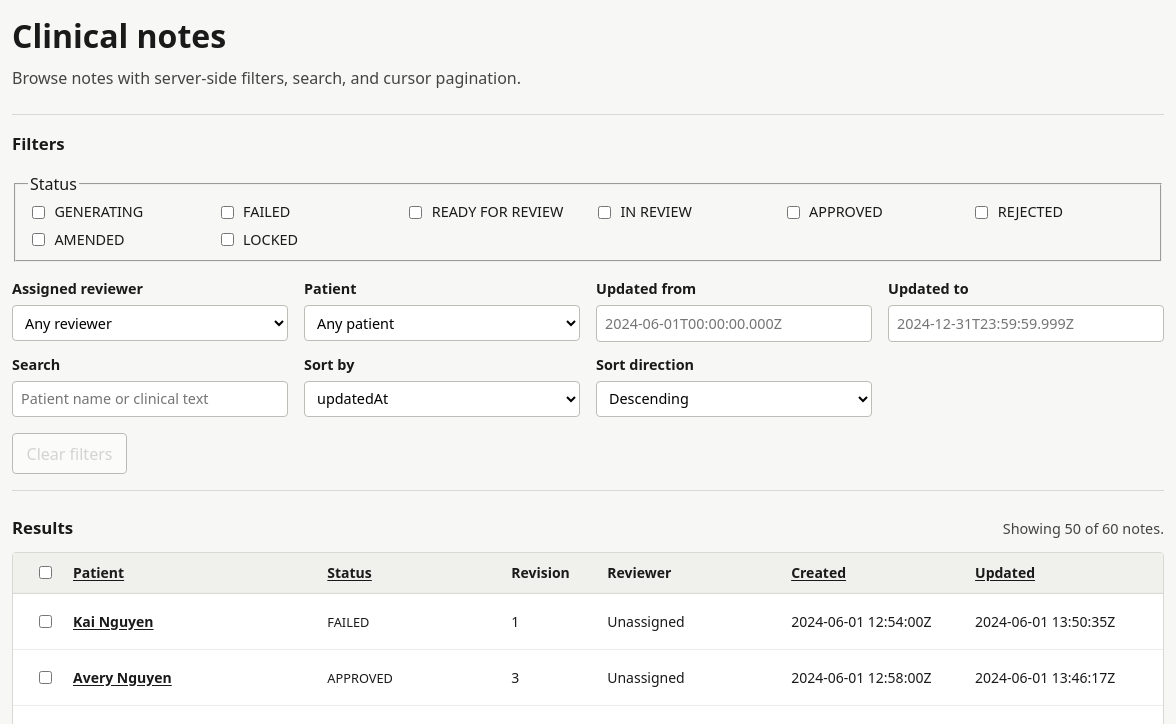
Test: NotesListPage › 64–65: search and status filter update server results
The width and height of the screenshot is (1176, 724).
Click the checkbox labelled "APPROVED". click: coordinates (793, 212)
box: [787,206,800,219]
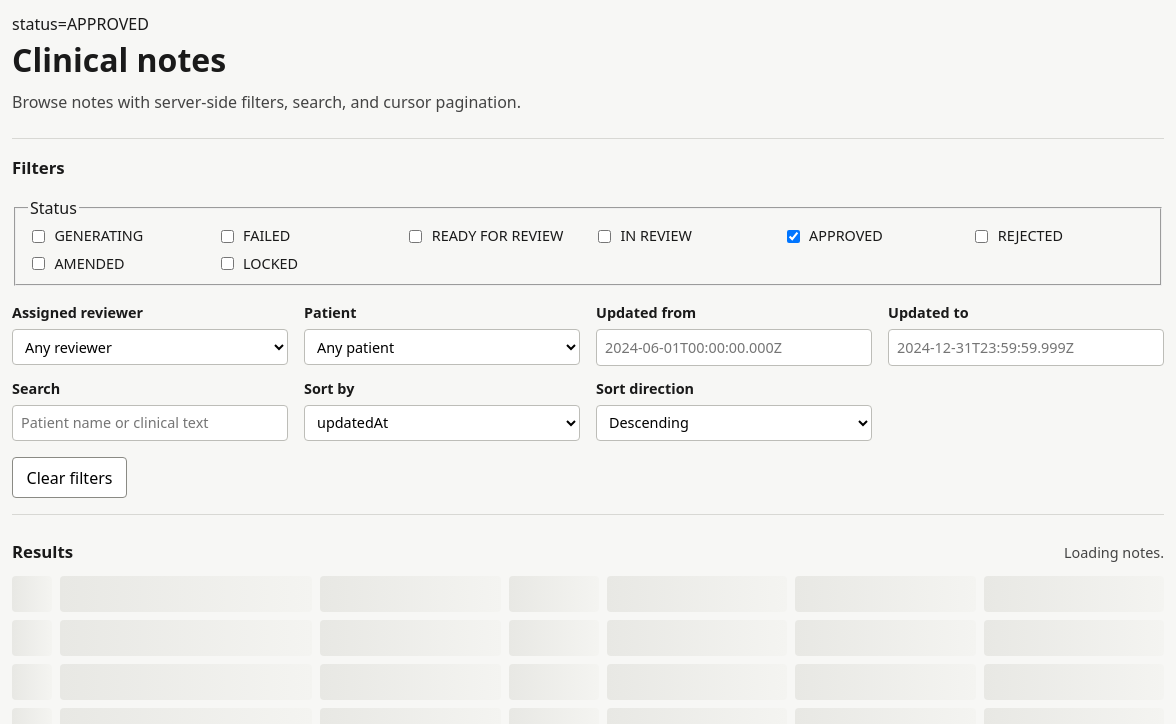
Now the text with test id "location-search" reads "status=APPROVED", box [12,13,149,35]
Type "zzznomatchxyz" into the search field labelled "Search". click: coordinates (150, 423)
box: [12,405,288,441]
Wait 400 ms
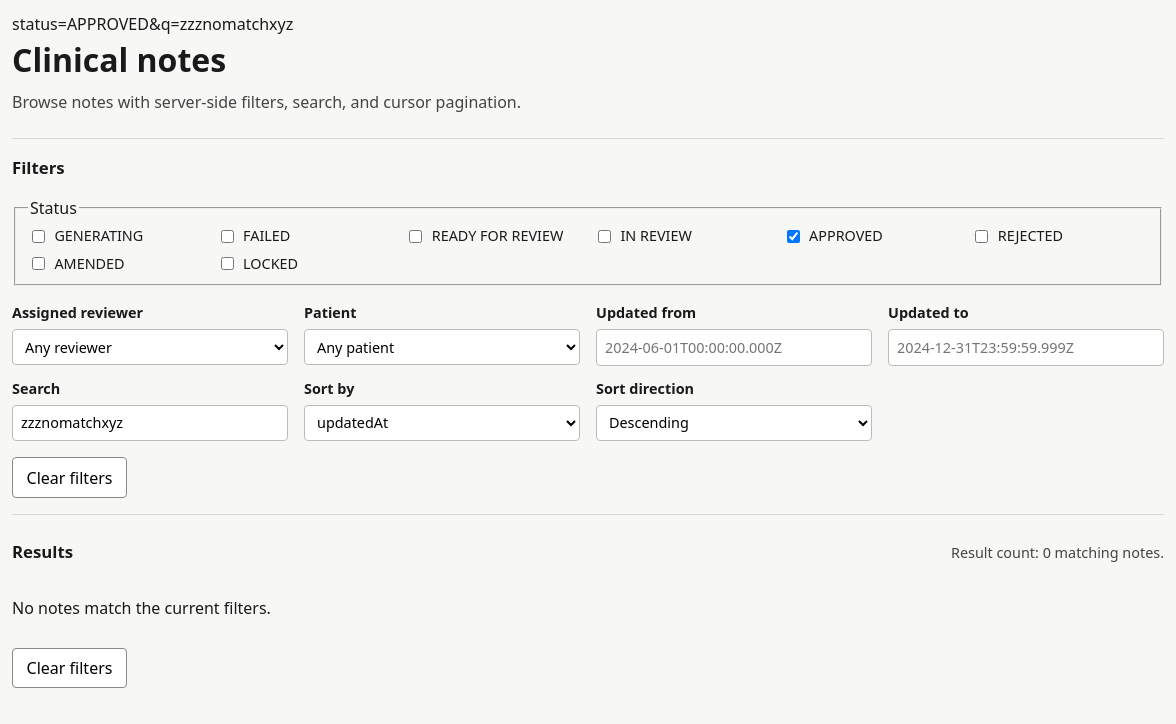
Now the text "No notes match the current filters." is shown, box [12,596,271,620]
